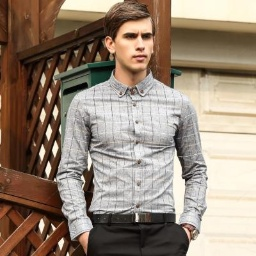face: (103, 1, 155, 74)
